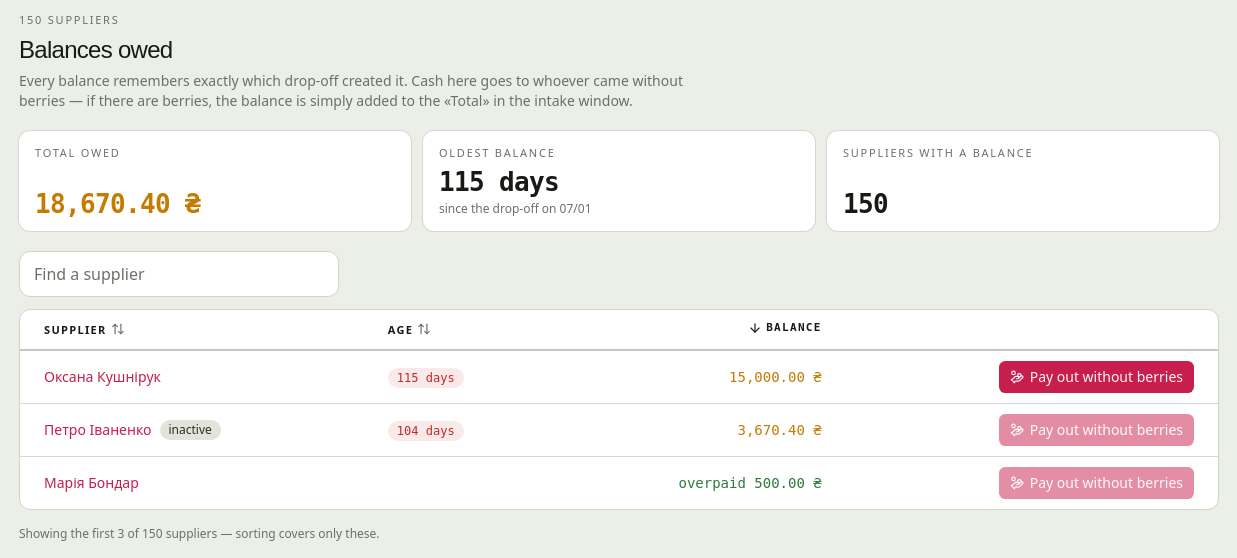
Test: DebtsPage — the operator › mentions the loaded count in the no-match hint when the server truncated the list
Type "zzzzz" into the search field labelled "Find a supplier" at (179, 274), box [19,251,339,297]
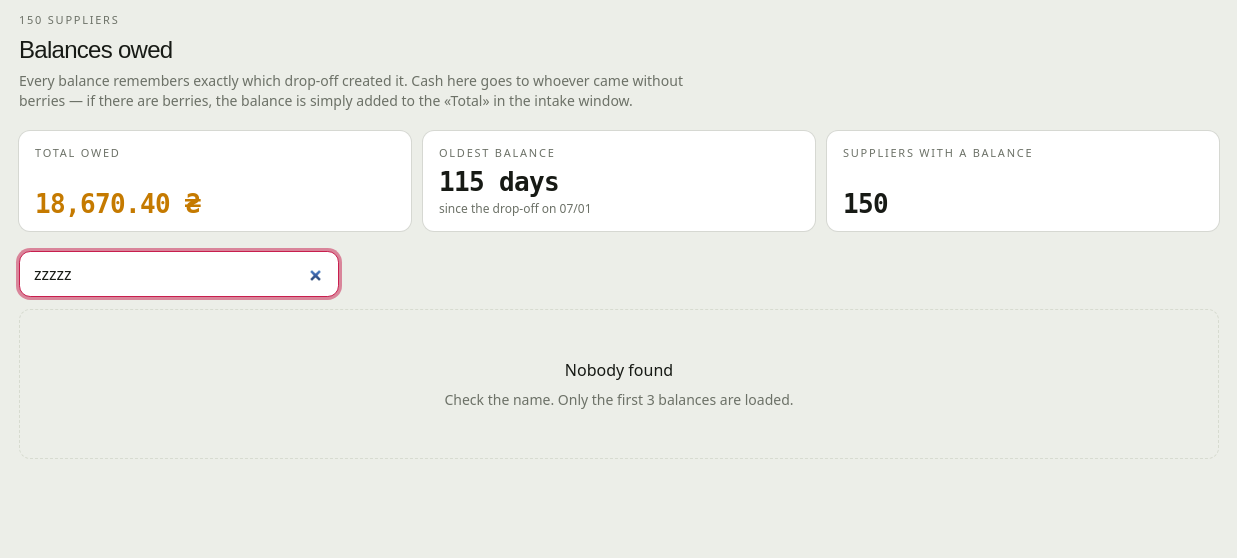
Expected: the text "Nobody found" is shown, [565,358,673,382]
Expected: the text "Check the name. Only the first 3 balances are loaded." is shown, [444,390,794,410]
